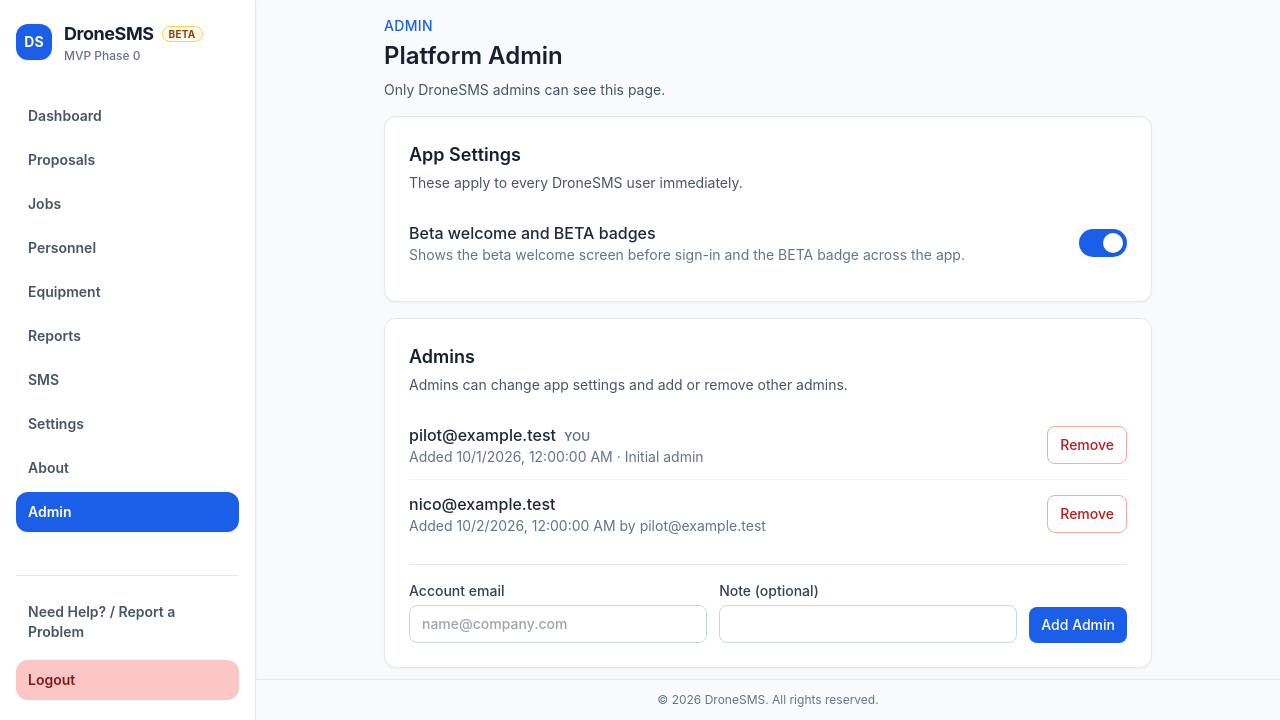
it: Platform admin access › adds an admin by email through the database function
Step 1. Type " new.admin@example.test " into the field labelled "Account email" → (558, 624), box x1=409 y1=605 x2=707 y2=643
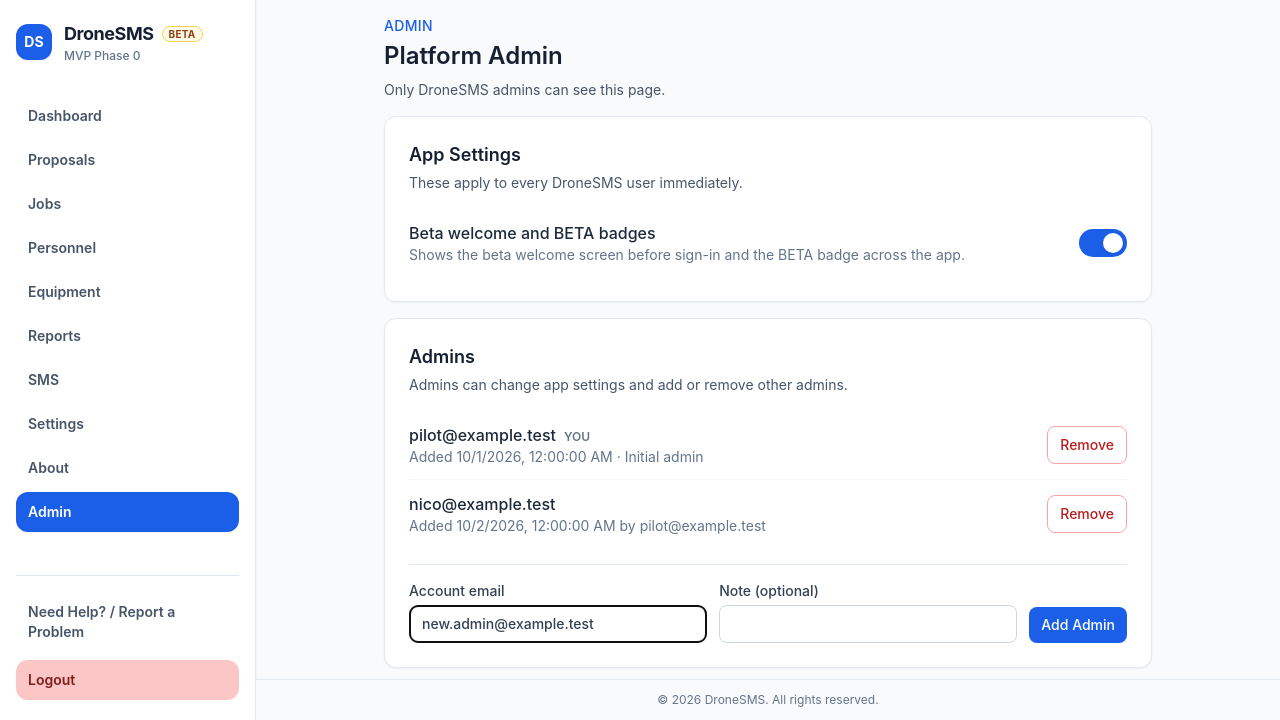
Step 2. Click the button "Add Admin" → (1078, 625), box x1=1029 y1=607 x2=1127 y2=643
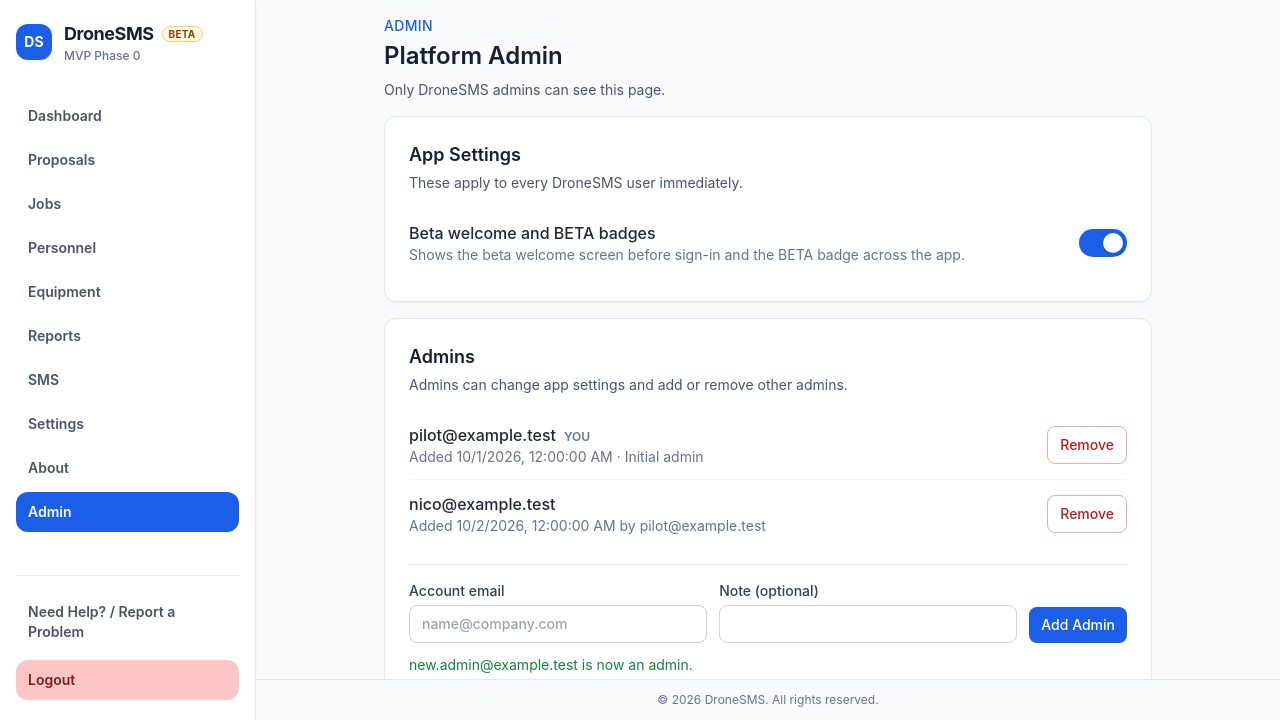
Now the text "new.admin@example.test is now an admin." is shown, box x1=409 y1=656 x2=693 y2=673
